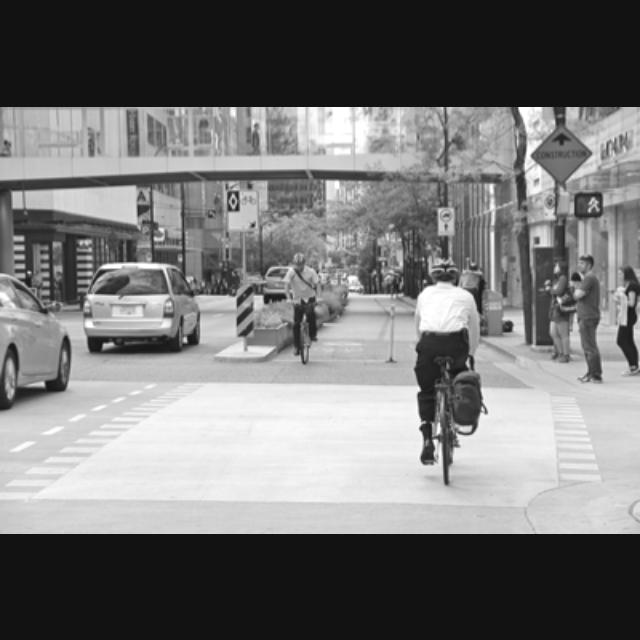With Helmet: (426, 254, 460, 282), (287, 249, 309, 271)
